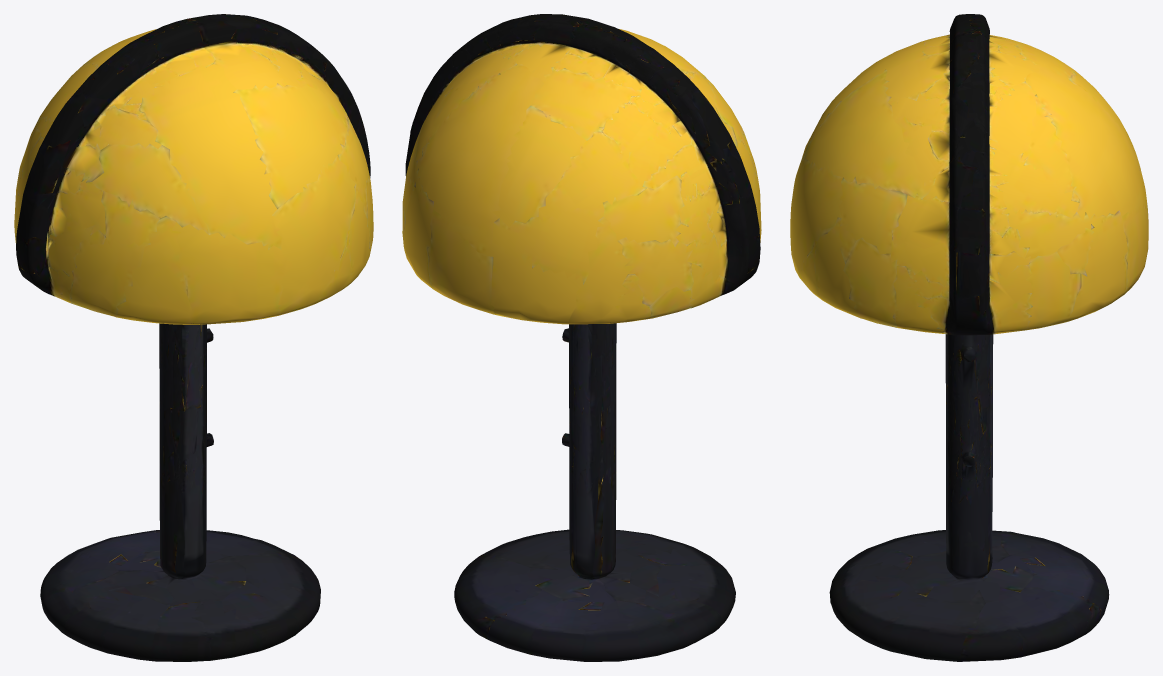
Rendered from lamp.glb.
3 views of the same model, side by side, from view 1: azimuth 30°, elevation 25°; view 2: azimuth 150°, elevation 25°; view 3: azimuth 270°, elevation 25° (orthographic).
Size of the model in its own units: 1.17 by 1.9 by 1.06.
1 material, 1 textured.
